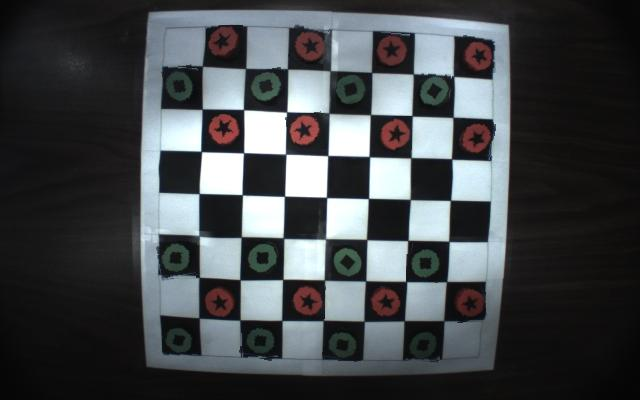G: (157, 242, 197, 280), (163, 65, 198, 104), (245, 242, 282, 278), (240, 325, 278, 360), (407, 245, 442, 282), (323, 327, 361, 361), (406, 328, 441, 363), (162, 322, 198, 356), (250, 69, 285, 103), (336, 74, 370, 108), (419, 73, 452, 108), (331, 246, 363, 278)
R: (287, 113, 325, 150), (457, 120, 494, 158), (290, 26, 329, 62), (206, 25, 243, 61), (460, 36, 496, 73), (289, 282, 325, 319), (366, 285, 403, 321), (376, 116, 412, 151), (452, 285, 486, 322), (204, 114, 240, 148), (202, 284, 238, 318), (376, 31, 410, 66)
